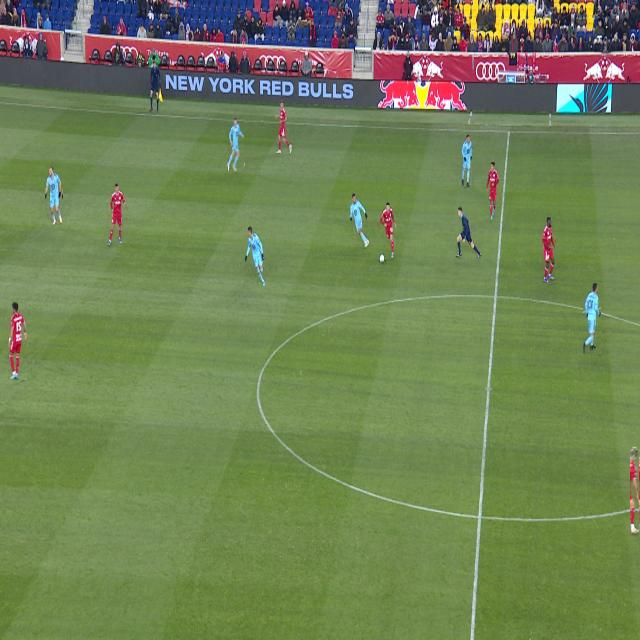football: (380, 254, 385, 263)
player: (8, 302, 27, 380), (583, 284, 601, 354), (245, 227, 265, 286), (107, 183, 125, 246), (350, 193, 369, 248), (46, 167, 62, 225), (380, 202, 396, 259), (275, 100, 292, 153), (630, 446, 640, 535), (228, 118, 244, 172), (543, 218, 555, 283), (486, 161, 499, 220), (462, 135, 472, 187)
referee: (455, 207, 481, 259)
